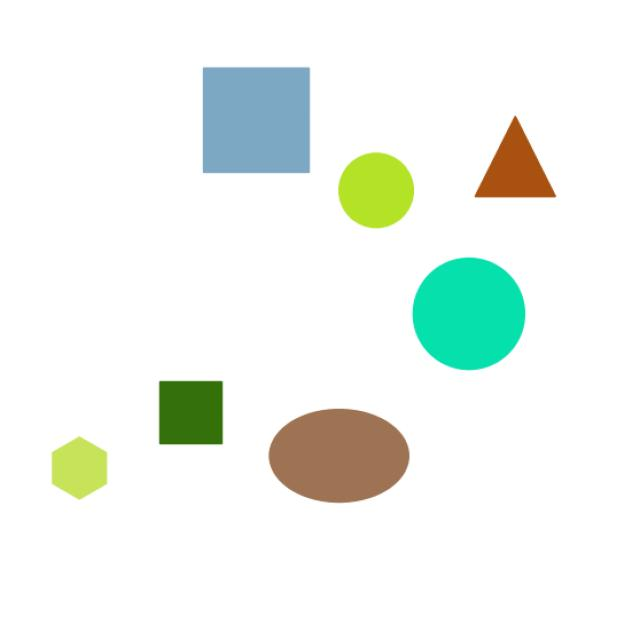Circle: (403, 252, 556, 378), (327, 147, 427, 249)
Hexagon: (30, 431, 129, 514)
Oval: (252, 405, 418, 505)
Triangle: (457, 103, 568, 225)
square: (192, 56, 320, 183), (152, 375, 237, 461)
